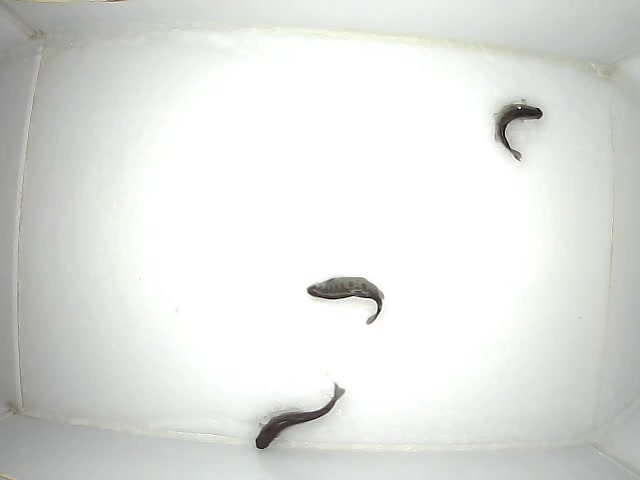fish: (254, 380, 348, 451), (304, 275, 386, 324), (490, 98, 545, 161)
